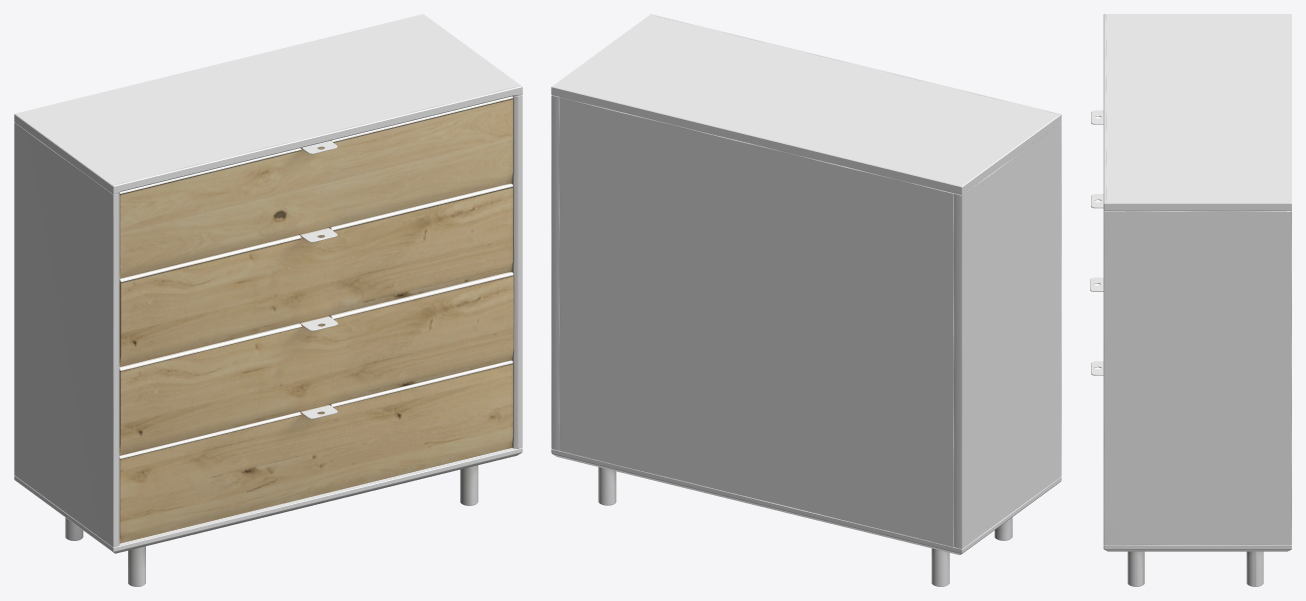
The model's file is furniture1.glb.
3 views of the same model, side by side, from view 1: azimuth 30°, elevation 25°; view 2: azimuth 150°, elevation 25°; view 3: azimuth 270°, elevation 25° (orthographic). The views are drawn at different scales.
Visible parts, largest first — view 1: PINE, WHITE; view 2: WHITE; view 3: WHITE.
Boxes of the visible parts, x1,y1,x2,y2 form: PINE: (119,98,513,543); WHITE: (14,14,522,586); WHITE: (551,14,1061,586); WHITE: (1090,14,1291,586).
Size of what is drawn, in the model's own units: 99.99 by 97.83 by 45.04.
3 materials, 3 textured.
